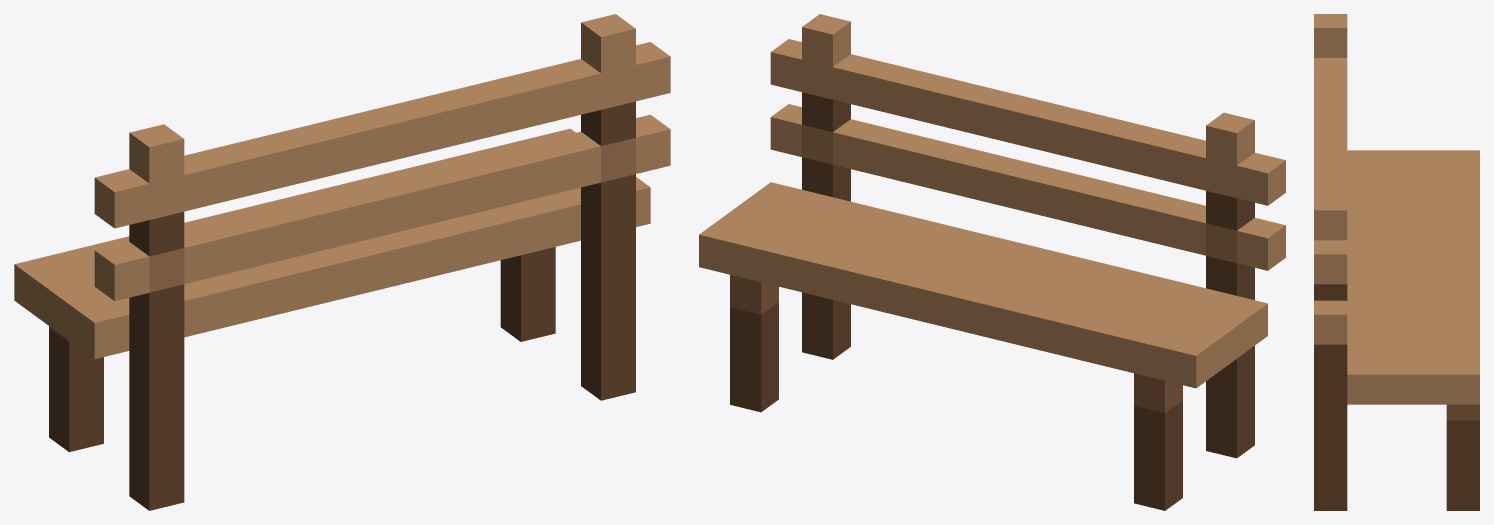
The model's file is SM_Bench_Wood.fbx.
3 views of the same model, side by side, from view 1: azimuth 30°, elevation 25°; view 2: azimuth 150°, elevation 25°; view 3: azimuth 270°, elevation 25° (orthographic). The views are drawn at different scales.
Parts seen in each view (by area): view 1: SM_Bench_Wood; view 2: SM_Bench_Wood; view 3: SM_Bench_Wood.
Boxes of the visible parts, x1,y1,x2,y2 form: SM_Bench_Wood: (14, 14, 670, 510); SM_Bench_Wood: (699, 14, 1285, 510); SM_Bench_Wood: (1314, 14, 1479, 510).
Size of the model in its own units: 1.6 by 1 by 0.5.
1 material, 1 textured.
